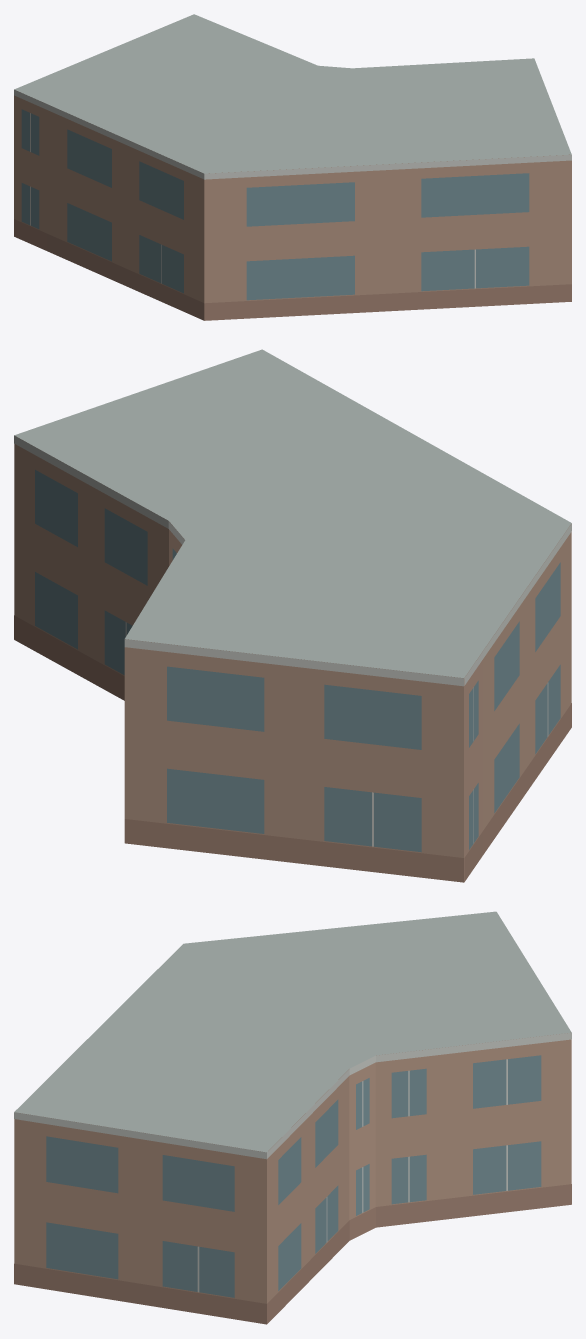
Rendered from survey-upis-32921472.glb.
3 views of the same model, one above another, from view 1: azimuth 30°, elevation 25°; view 2: azimuth 150°, elevation 25°; view 3: azimuth 270°, elevation 25° (orthographic). The views are drawn at different scales.
Parts seen in each view (by area): view 1: survey-upis-32921472.tmp; view 2: survey-upis-32921472.tmp; view 3: survey-upis-32921472.tmp.
Part boxes in pixels (<box>): survey-upis-32921472.tmp: <box>14,14,571,320</box>; survey-upis-32921472.tmp: <box>14,349,571,882</box>; survey-upis-32921472.tmp: <box>14,911,571,1324</box>.
Bounding box in the file's own units: 18.33 × 6.1 × 17.93.
